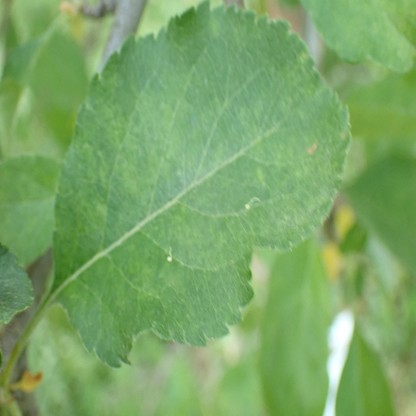scab: (54, 14, 348, 341)
